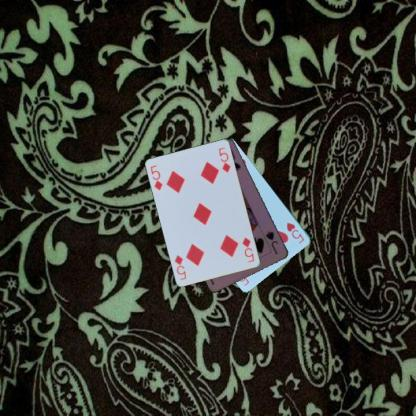5d: (148, 163, 164, 192), (240, 235, 255, 264)
5h: (284, 220, 306, 245)
Js: (263, 229, 280, 256)
